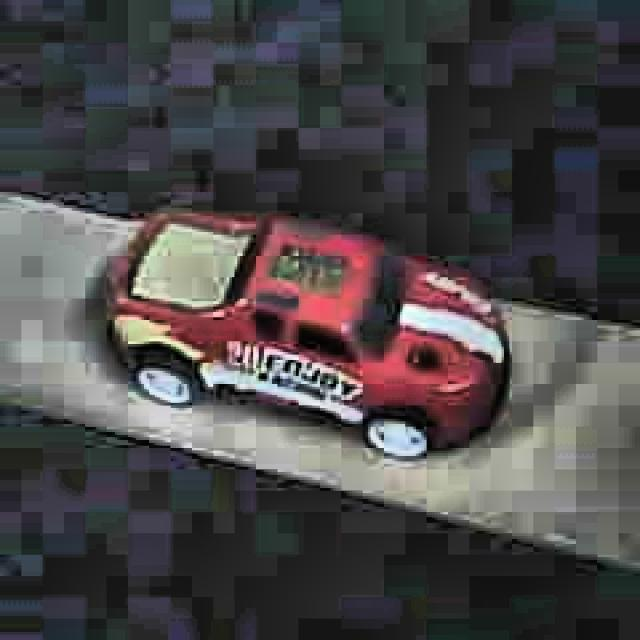car: (102, 203, 516, 467)
